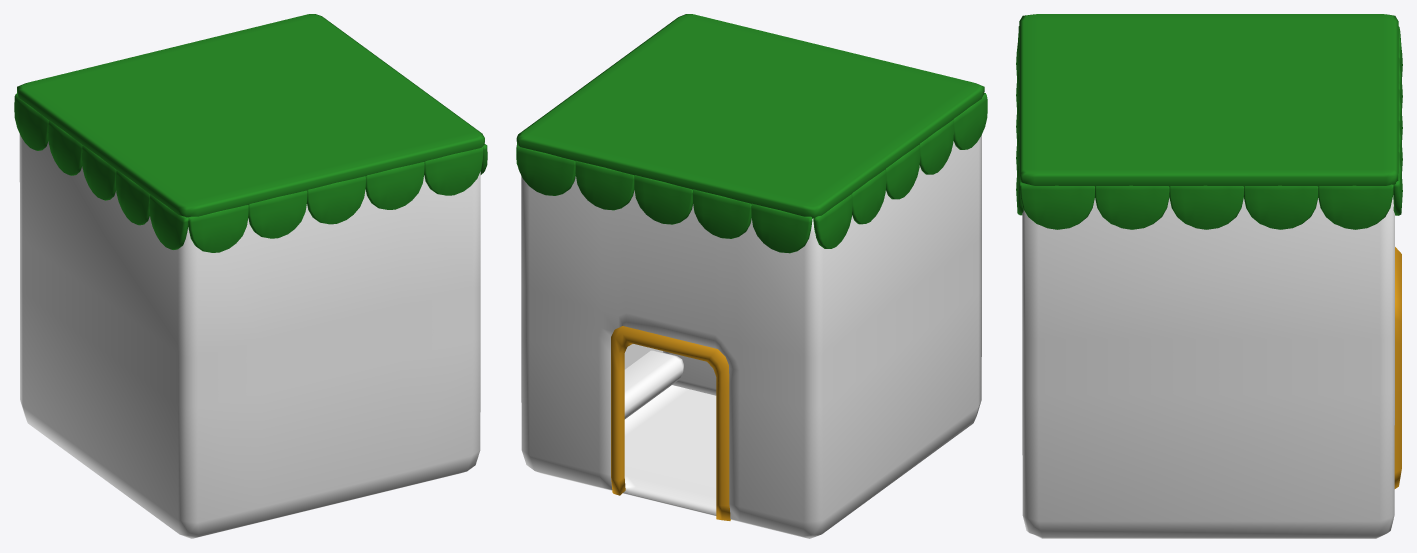
The model's file is HouseNormal.fbx.
3 renders of one model, left to right at view 1: azimuth 30°, elevation 25°; view 2: azimuth 150°, elevation 25°; view 3: azimuth 270°, elevation 25°, orthographic. The views are drawn at different scales.
Visible parts, largest first — view 1: HouseNormal2, HouseNormal10; view 2: HouseNormal2, HouseNormal10; view 3: HouseNormal2, HouseNormal10.
Part boxes in pixels (<box>): HouseNormal2: <box>19,134,480,538</box>; HouseNormal10: <box>14,14,487,252</box>; HouseNormal2: <box>521,135,981,538</box>; HouseNormal10: <box>516,14,987,520</box>; HouseNormal2: <box>1022,195,1394,538</box>; HouseNormal10: <box>1016,14,1402,488</box>.
Size of the model in its own units: 2.2 by 2.32 by 2.18.
Materials: 1 (1 with a texture image).
